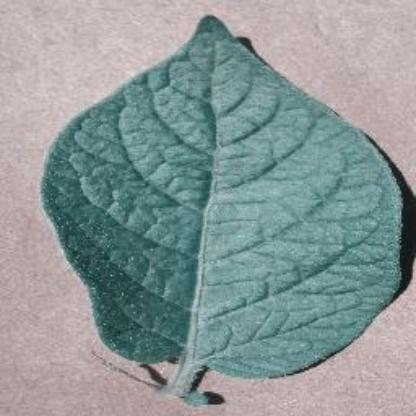Healthy-plant: (41, 9, 416, 407)
